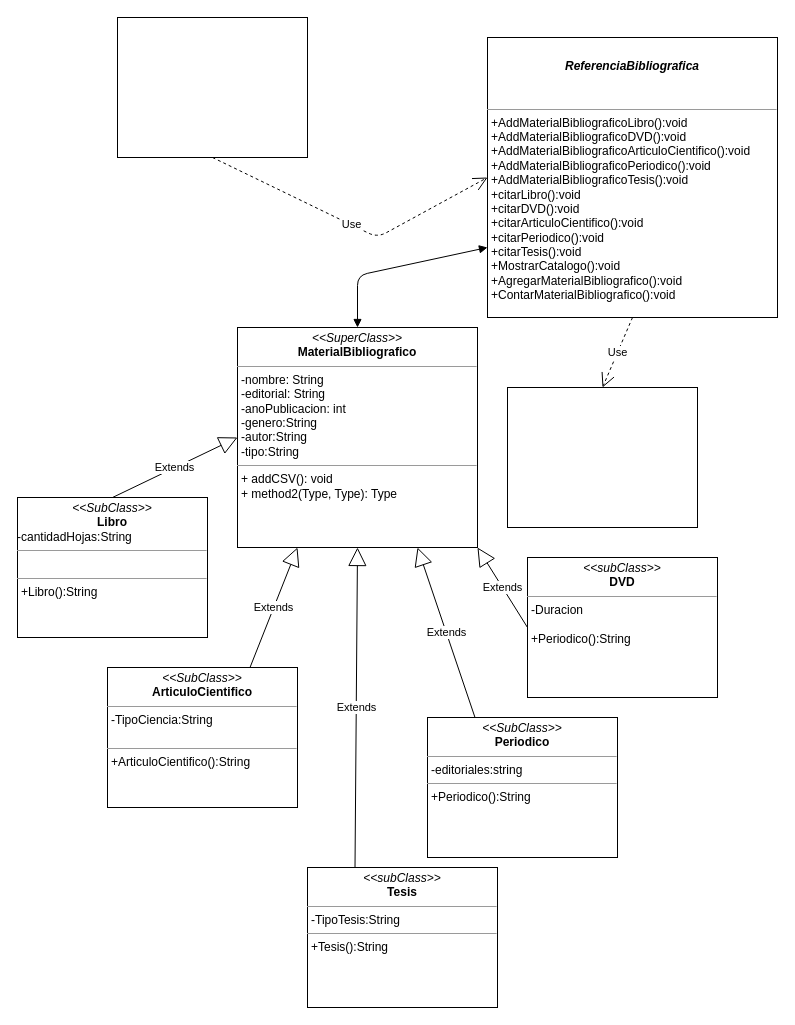
Some shapes in this 795 by 1025 pixel diagram are drawn without their labels. Each missing label, with the centre of its shape:
"<<main>> DriverProgram Menu(): void" goes at pixel 212 87.
"CSVManager + SaveCatalogCSV():void + LoadCatalogCSV():void" goes at pixel 602 457.
